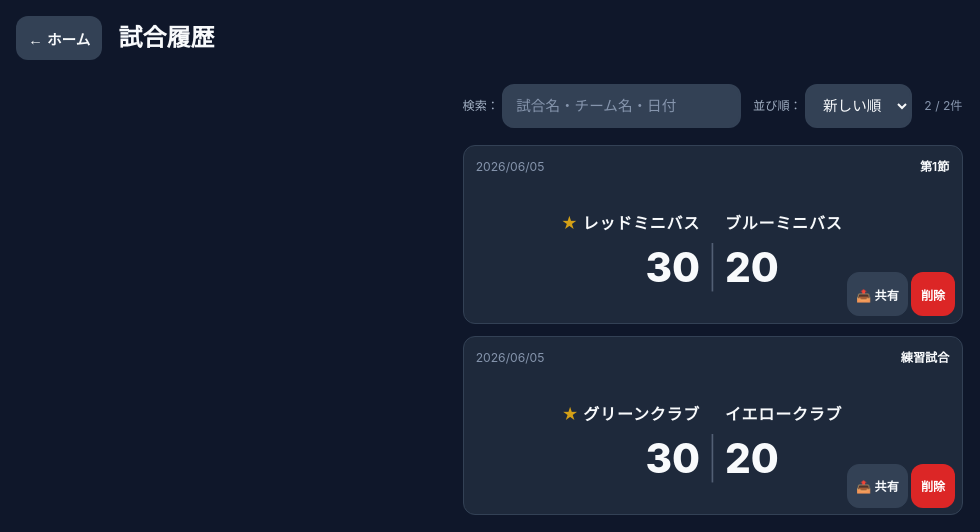
Test case: 試合履歴の検索 › 絞り込むと、その live region の中身が変わる
This screenshot has width=980, height=532.
Type "レッド" into the search field labelled "検索：" at (622, 106), box x1=502 y1=84 x2=741 y2=128
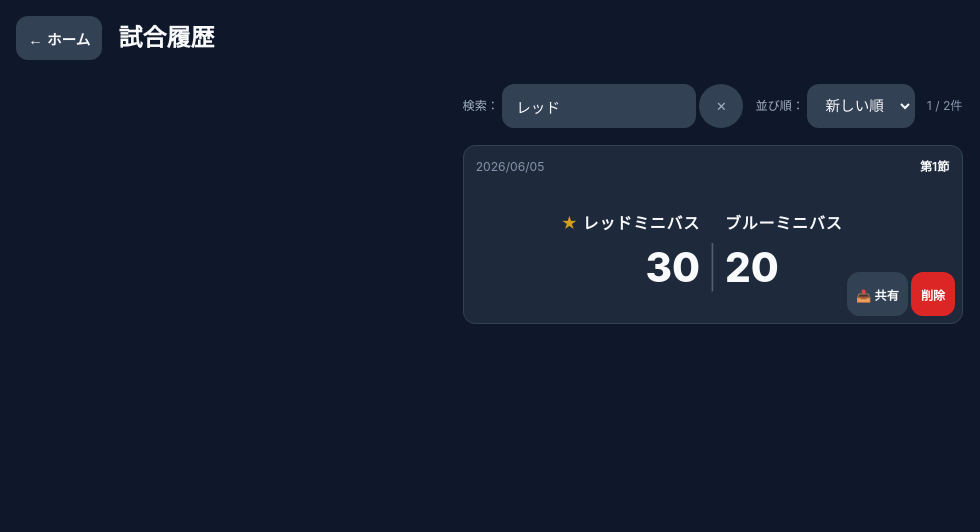
Result: the message reads "1 / 2件" at x1=927 y1=97 x2=962 y2=116
